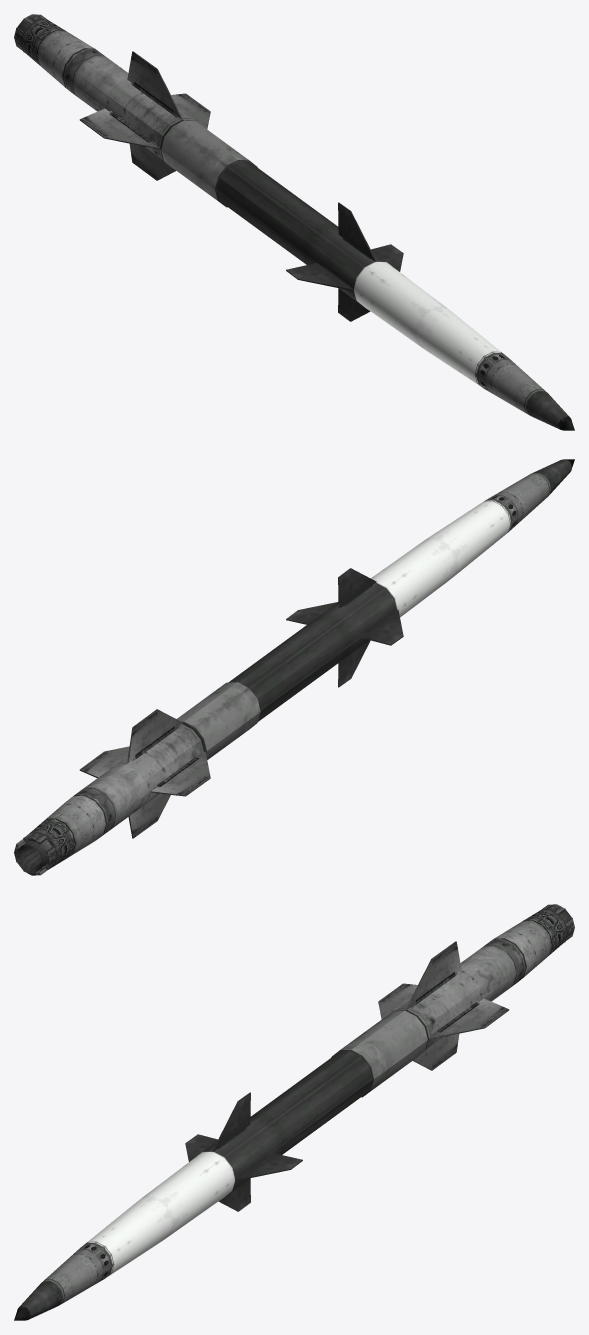
File: DFF-U7 Canopus.fbx
3 views of the same model, one above another, from view 1: azimuth 30°, elevation 25°; view 2: azimuth 150°, elevation 25°; view 3: azimuth 330°, elevation 25° (orthographic).
Parts seen in each view (by area): view 1: DFF-U7 Canopus; view 2: DFF-U7 Canopus; view 3: DFF-U7 Canopus.
Boxes of the visible parts, left/top/right/bottom form: DFF-U7 Canopus: left=14, top=14, right=574, bottom=430; DFF-U7 Canopus: left=14, top=459, right=574, bottom=875; DFF-U7 Canopus: left=14, top=904, right=574, bottom=1320.
Size of the model in its own units: 70.94 by 70.94 by 629.
1 material, 1 textured.
